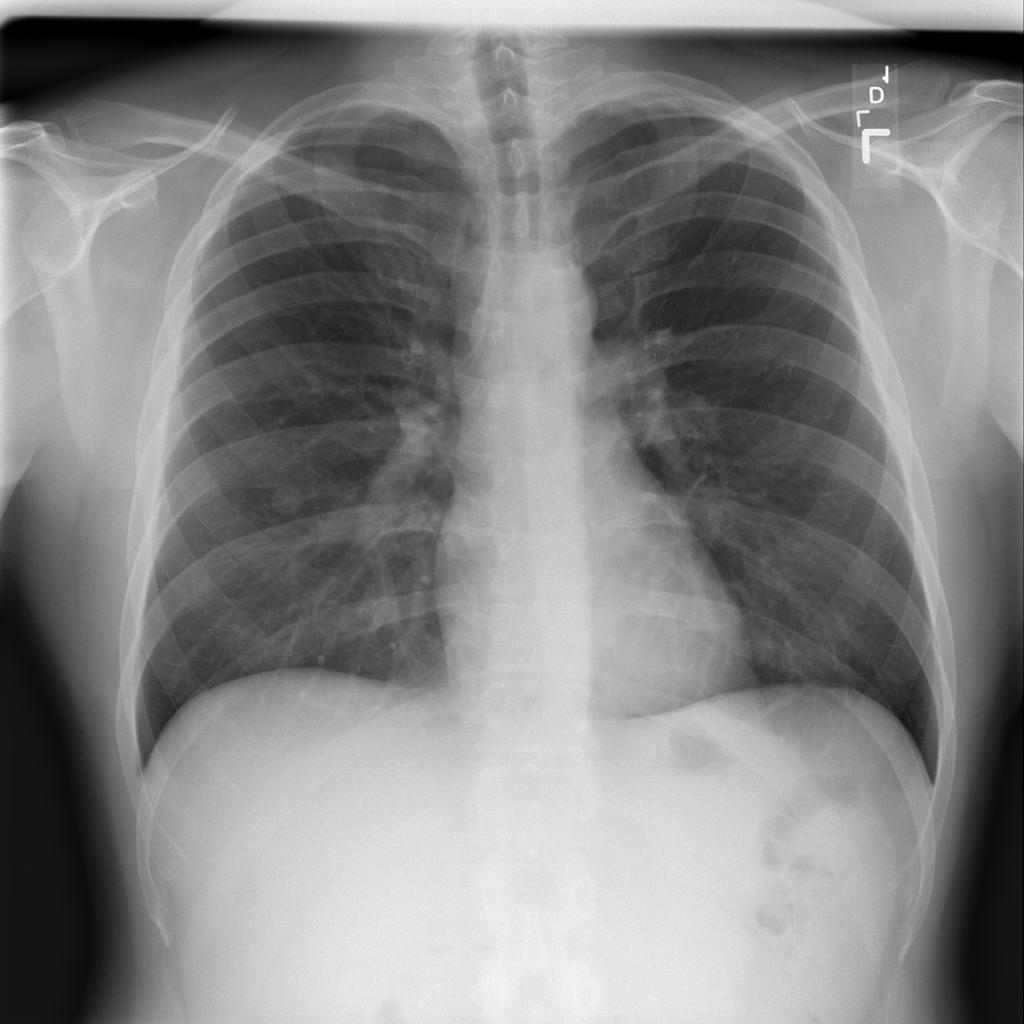nodule: (257, 473, 312, 525), (736, 625, 789, 675)
